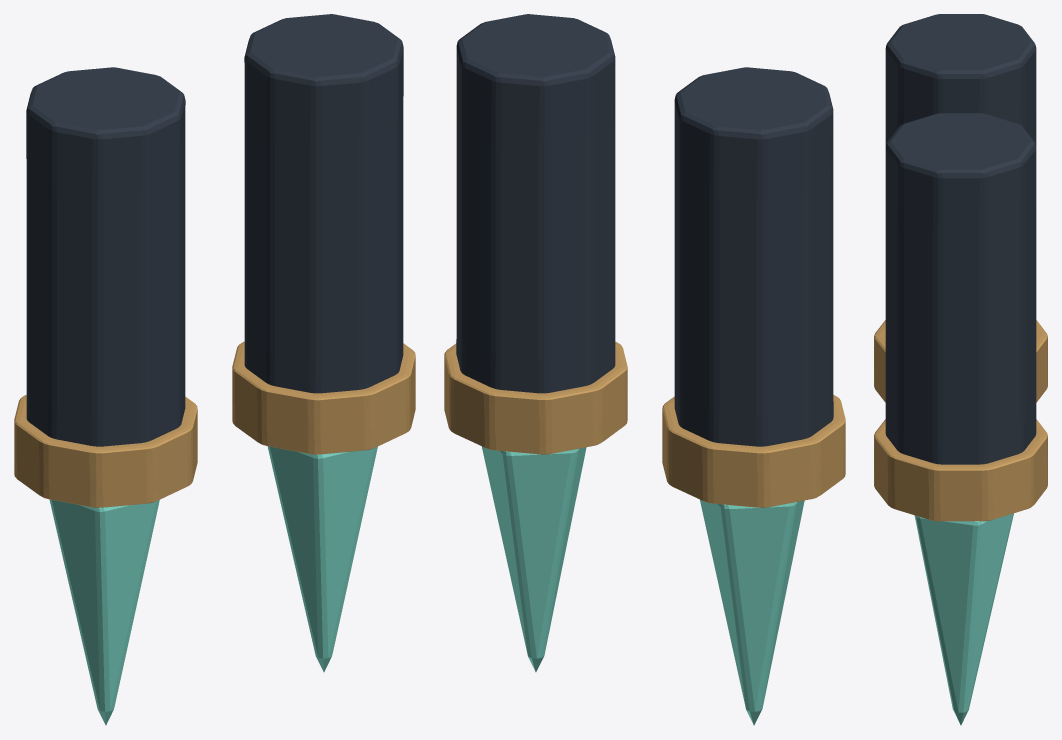
File: jetpack.glb
The picture shows the model from 3 angles, left to right: view 1: azimuth 30°, elevation 25°; view 2: azimuth 150°, elevation 25°; view 3: azimuth 270°, elevation 25°; orthographic projection. The views are drawn at different scales.
Visible parts, largest first — view 1: _MeshInstance3D_529, _MeshInstance3D_527, FlameL, FlameR, _MeshInstance3D_528, _MeshInstance3D_530; view 2: _MeshInstance3D_529, _MeshInstance3D_527, FlameL, FlameR, _MeshInstance3D_528, _MeshInstance3D_530; view 3: _MeshInstance3D_529, _MeshInstance3D_527, FlameR, _MeshInstance3D_530, _MeshInstance3D_528.
Part boxes in pixels (bbox=[...]): _MeshInstance3D_529: bbox=[244, 14, 403, 393]; _MeshInstance3D_527: bbox=[26, 67, 185, 446]; FlameL: bbox=[49, 499, 159, 725]; FlameR: bbox=[267, 446, 377, 672]; _MeshInstance3D_528: bbox=[14, 395, 197, 507]; _MeshInstance3D_530: bbox=[232, 341, 415, 454]; _MeshInstance3D_529: bbox=[456, 14, 615, 393]; _MeshInstance3D_527: bbox=[674, 67, 833, 446]; FlameL: bbox=[700, 499, 804, 725]; FlameR: bbox=[481, 446, 586, 672]; _MeshInstance3D_528: bbox=[662, 395, 845, 507]; _MeshInstance3D_530: bbox=[444, 341, 627, 454]; _MeshInstance3D_529: bbox=[885, 113, 1036, 464]; _MeshInstance3D_527: bbox=[885, 14, 1036, 146]; FlameR: bbox=[914, 513, 1013, 725]; _MeshInstance3D_530: bbox=[874, 419, 1047, 521]; _MeshInstance3D_528: bbox=[874, 320, 1047, 402].
Bounding box in the file's own units: 0.6853 × 1.1 × 0.2964.
